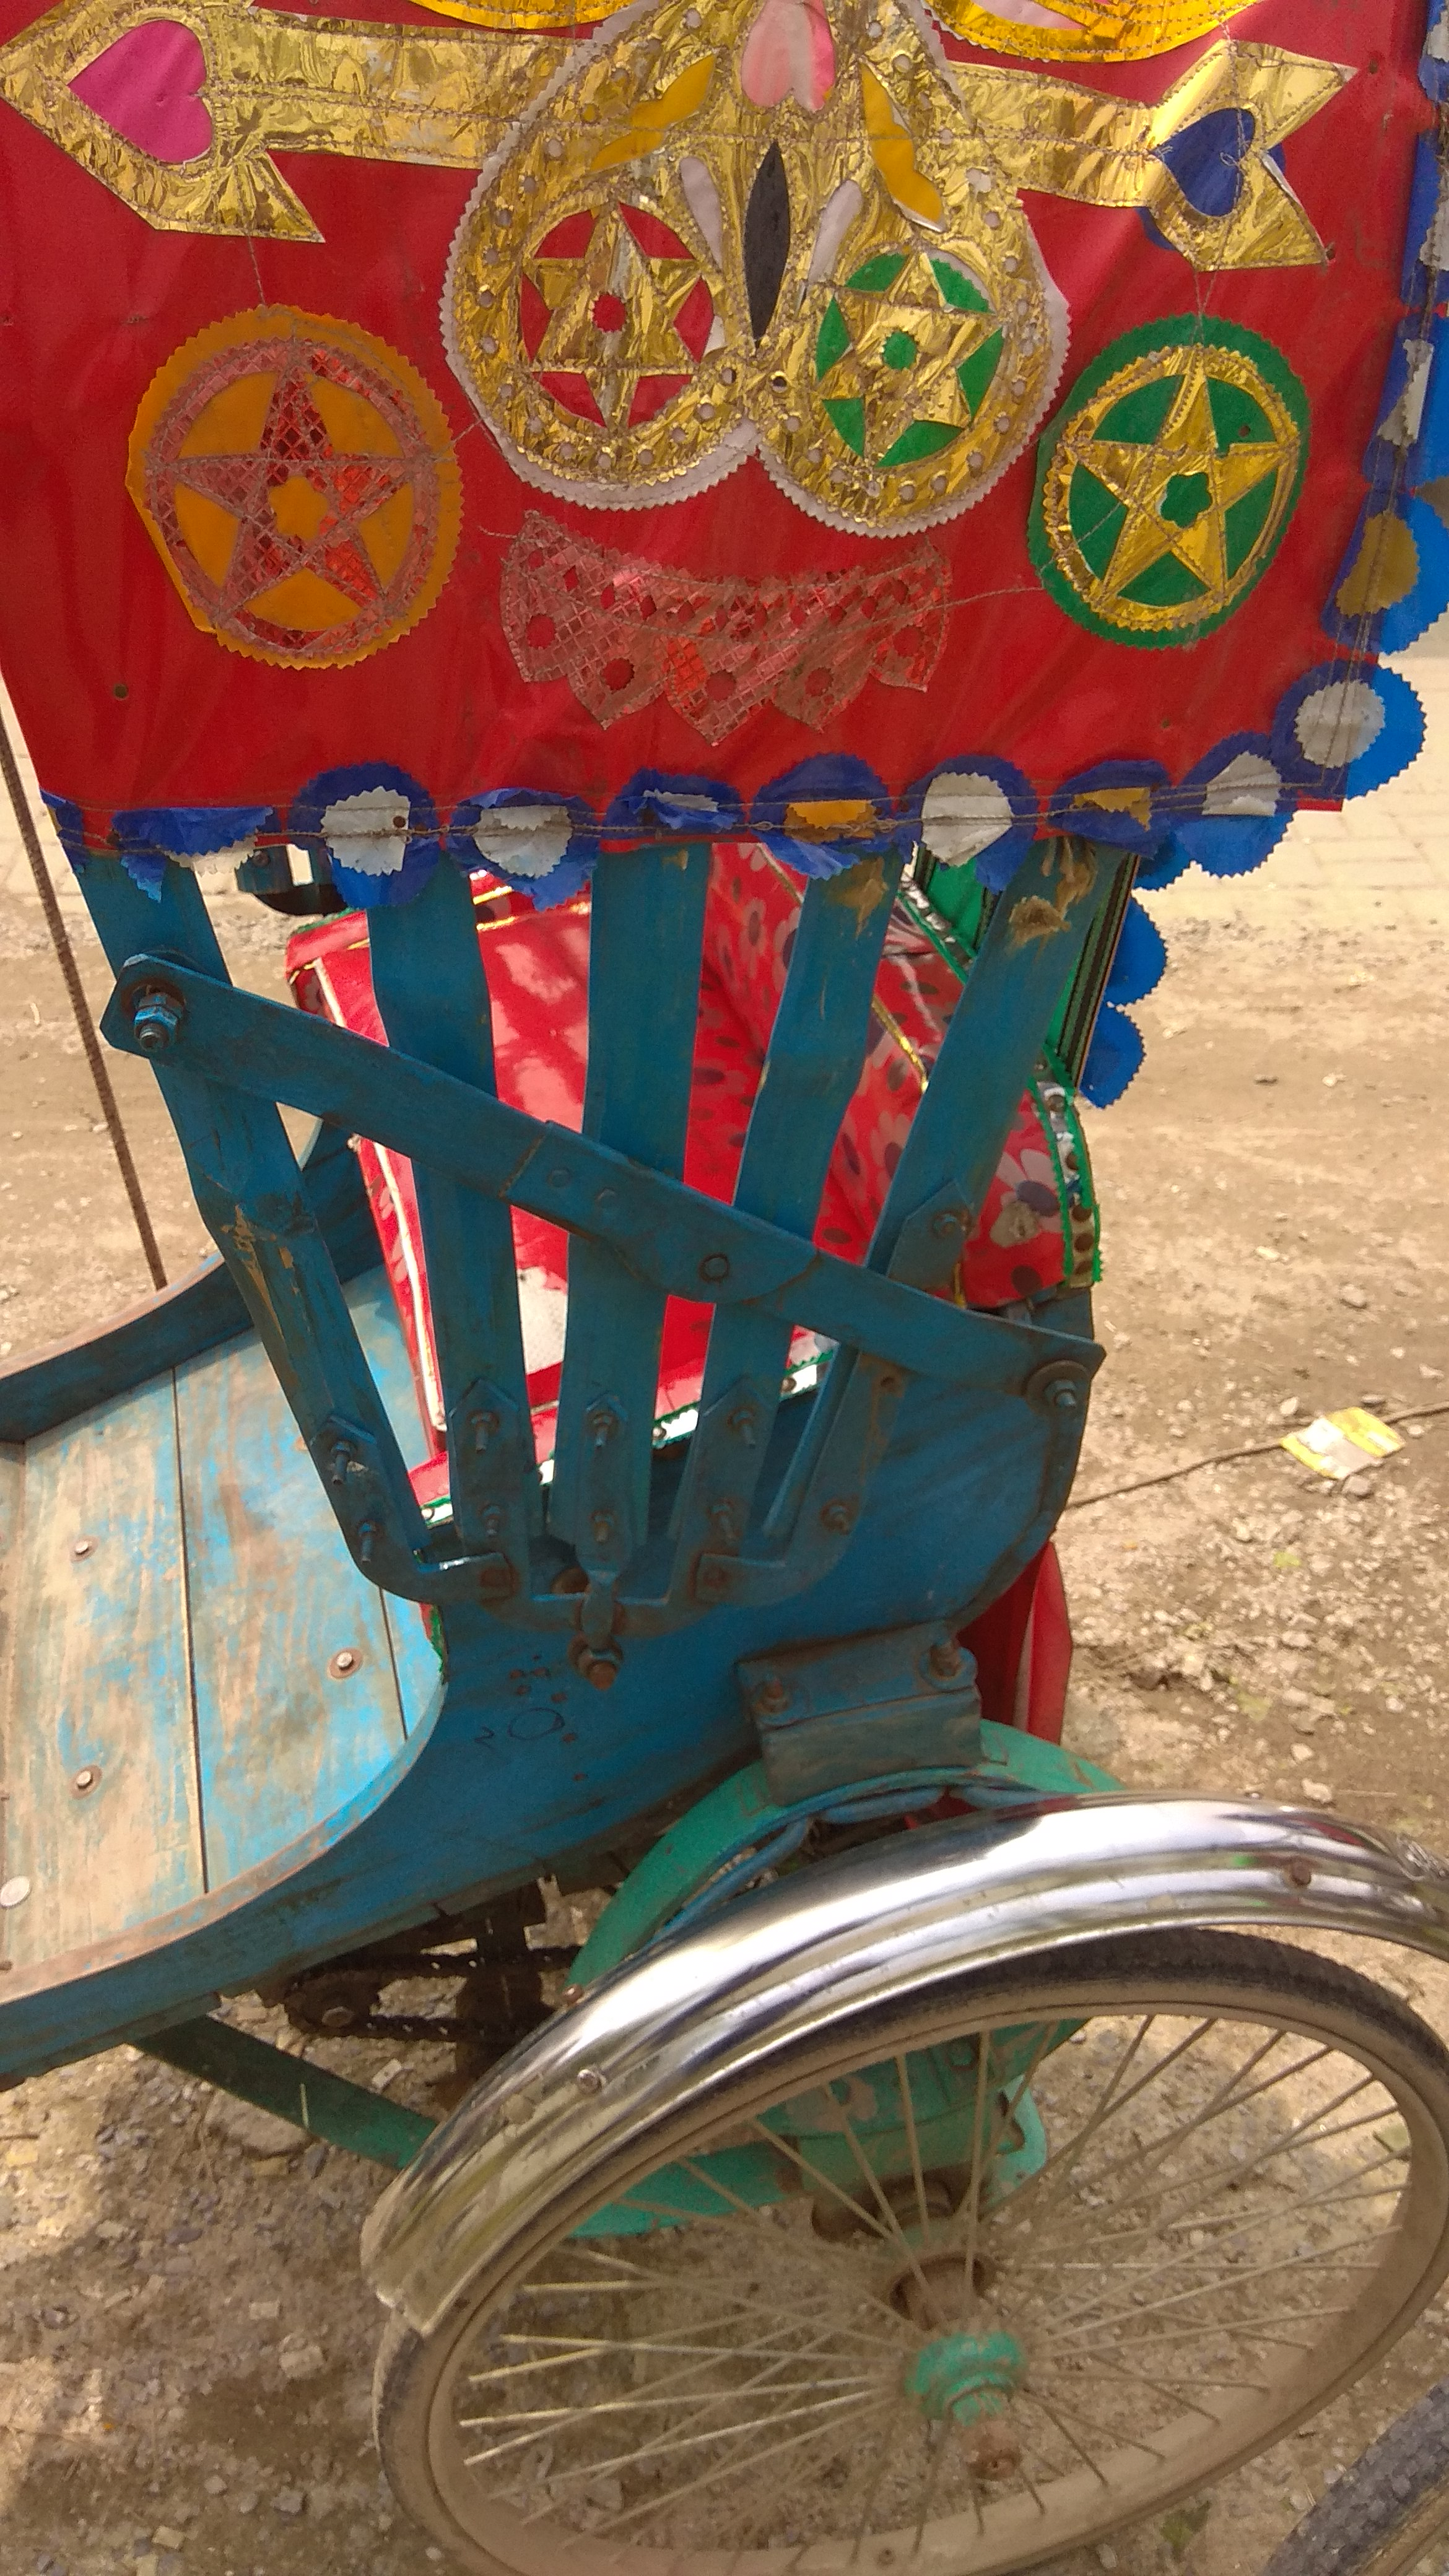Rickshaw: (9, 11, 1444, 2526)
